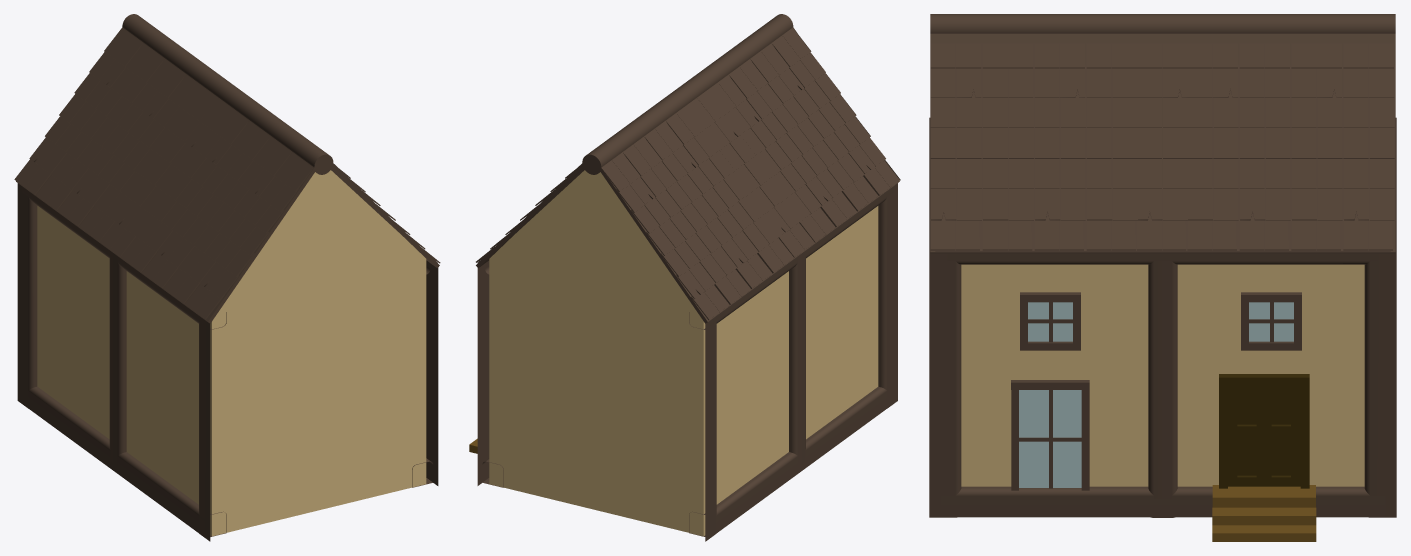
The model's file is House_Straight.fbx.
3 views of the same model, side by side, from view 1: azimuth 30°, elevation 25°; view 2: azimuth 150°, elevation 25°; view 3: azimuth 270°, elevation 25° (orthographic). The views are drawn at different scales.
Parts seen in each view (by area): view 1: pCube1, pCube247, pCube272, pCylinder4, pCube208, pCube220, pCube231, pCube217, pCube183; view 2: pCube1, pCube247, pCube272, pCylinder4, pCube208, pCube220, pCube217, pCube231, pCube183; view 3: pCube246, pCube1, pCube272, pCube183, pCube270, pCylinder4, pCube206, pCube248, pCube267, pCube216, pCube184, pCube236 (+12 smaller).
Boxes of the visible parts, bbox=[...] form: pCube1: bbox=[37, 170, 426, 536]; pCube247: bbox=[14, 28, 312, 319]; pCube272: bbox=[17, 183, 438, 541]; pCylinder4: bbox=[122, 14, 333, 174]; pCube208: bbox=[28, 386, 226, 536]; pCube220: bbox=[109, 251, 126, 466]; pCube231: bbox=[16, 27, 319, 323]; pCube217: bbox=[22, 186, 226, 329]; pCube183: bbox=[328, 160, 439, 267]; pCube1: bbox=[489, 170, 878, 536]; pCube247: bbox=[602, 28, 900, 320]; pCube272: bbox=[477, 183, 897, 541]; pCylinder4: bbox=[582, 14, 793, 174]; pCube208: bbox=[689, 386, 892, 536]; pCube220: bbox=[789, 251, 805, 466]; pCube217: bbox=[689, 187, 893, 329]; pCube231: bbox=[600, 27, 899, 323]; pCube183: bbox=[476, 163, 583, 268]; pCube246: bbox=[930, 43, 1394, 250]; pCube1: bbox=[961, 264, 1364, 486]; pCube272: bbox=[929, 117, 1396, 517]; pCube183: bbox=[930, 33, 1395, 253]; pCube270: bbox=[940, 486, 1385, 517]; pCylinder4: bbox=[930, 14, 1395, 33]; pCube206: bbox=[1228, 385, 1300, 486]; pCube248: bbox=[1148, 261, 1177, 517]; pCube267: bbox=[1019, 390, 1081, 487]; pCube216: bbox=[947, 253, 1378, 264]; pCube184: bbox=[935, 189, 1390, 251]; pCube236: bbox=[1212, 485, 1315, 507].
Bounding box in the file's own units: 12.96 × 16.29 × 15.85.
